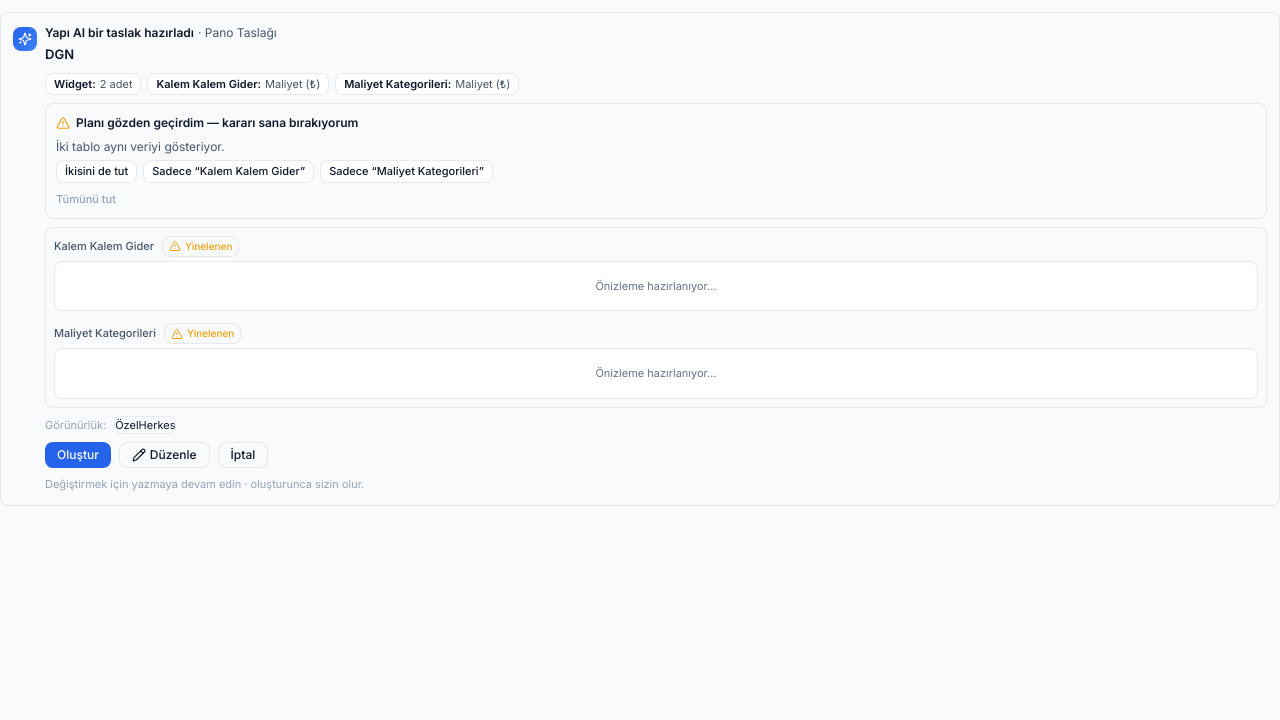
it: CR-056 — structural critique (duplicate) + trim › picking "Sadece A" trims the draft and Oluştur creates the trimmed plan
Later steps or results of the test are not shown.
Click the button "Sadece “Kalem Kalem Gider”" at (229, 171), box [143,160,314,182]
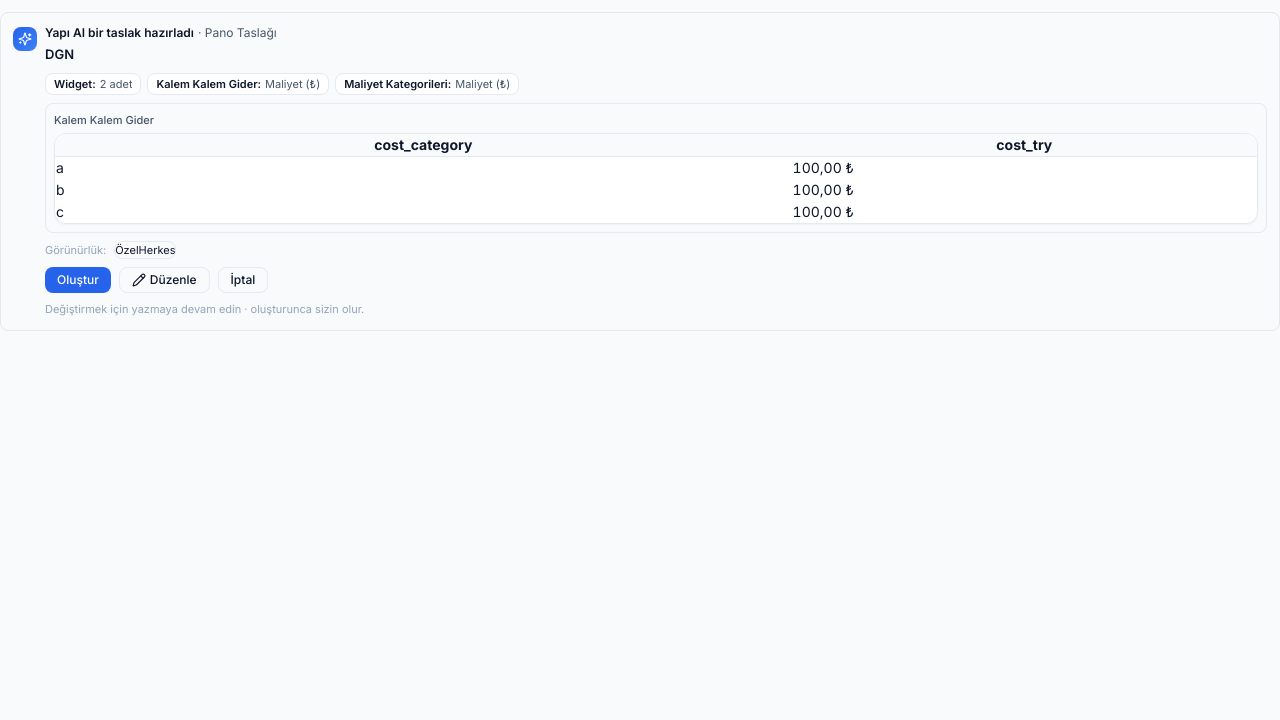
Now the text "İki tablo aynı veriyi gösteriyor." is gone
